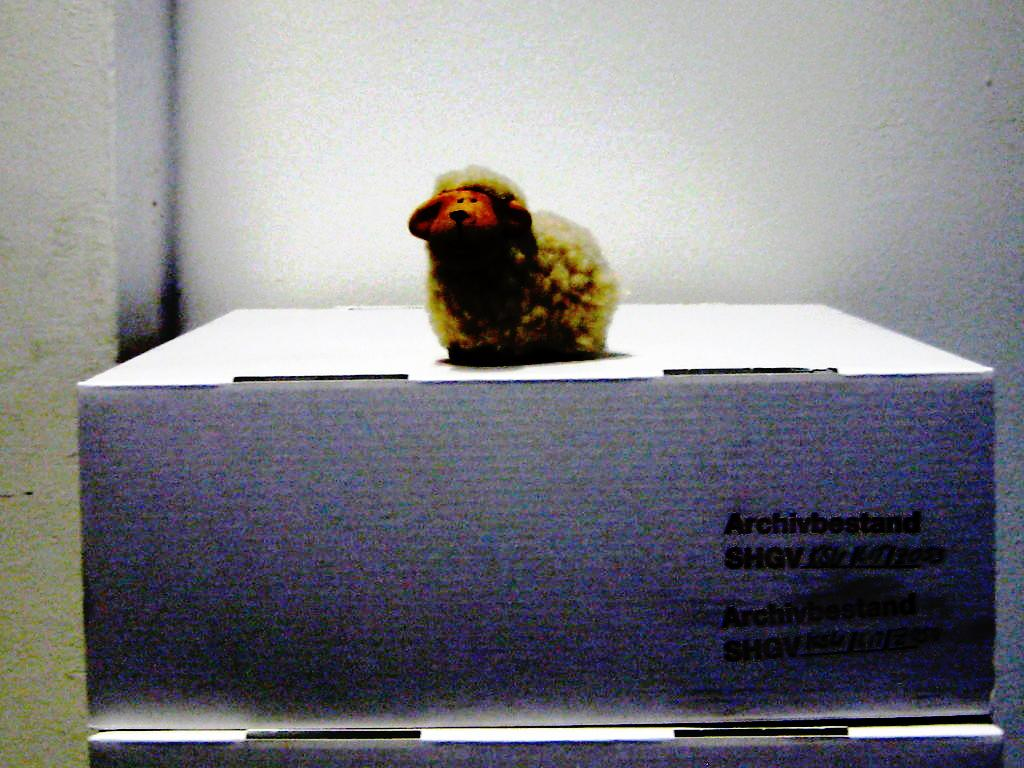Sheep: (384, 150, 642, 372)
